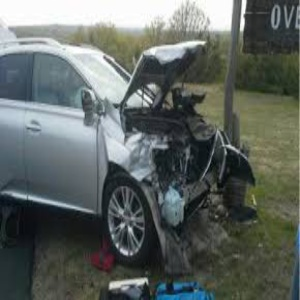bonnet: (141, 39, 214, 112)
bumper: (150, 145, 251, 226)
